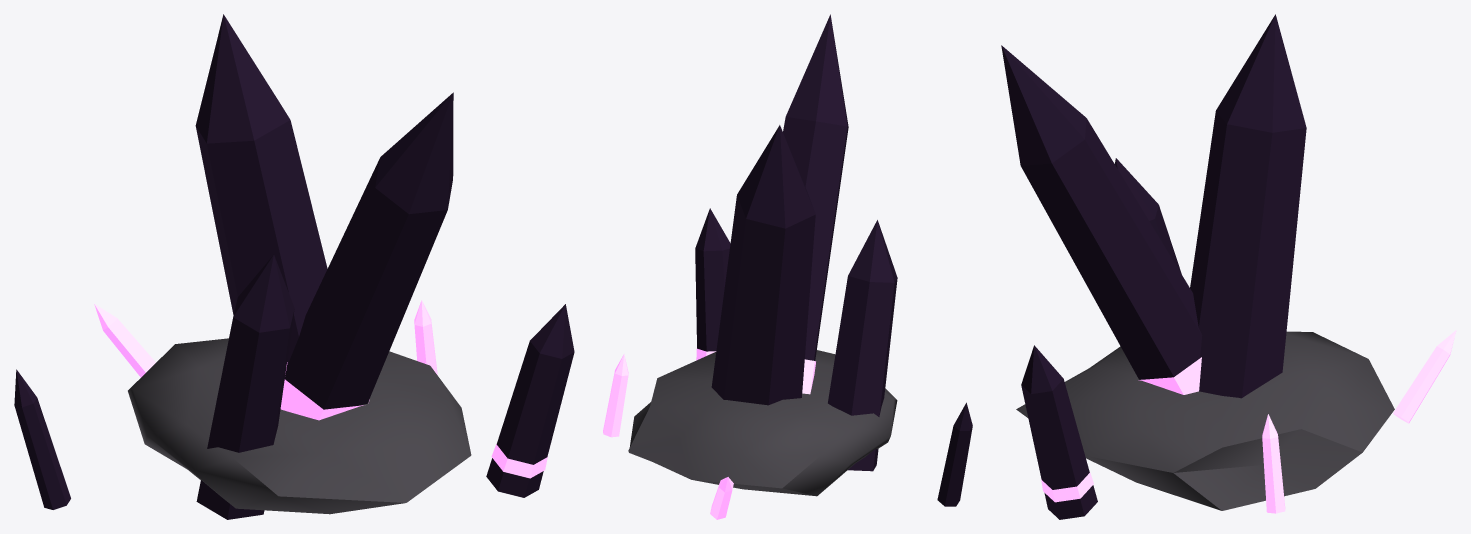
Rendered from crystal_cluster_c.glb.
The picture shows the model from 3 angles, left to right: view 1: azimuth 30°, elevation 25°; view 2: azimuth 150°, elevation 25°; view 3: azimuth 270°, elevation 25°; orthographic projection. The views are drawn at different scales.
Parts seen in each view (by area): view 1: crystal_cluster_c; view 2: crystal_cluster_c; view 3: crystal_cluster_c.
Boxes of the visible parts, x1,y1,x2,y2 form: crystal_cluster_c: (14,14,574,519); crystal_cluster_c: (603,14,972,519); crystal_cluster_c: (1001,14,1456,519).
Bounding box in the file's own units: 0.8979 × 0.9151 × 0.8511.
